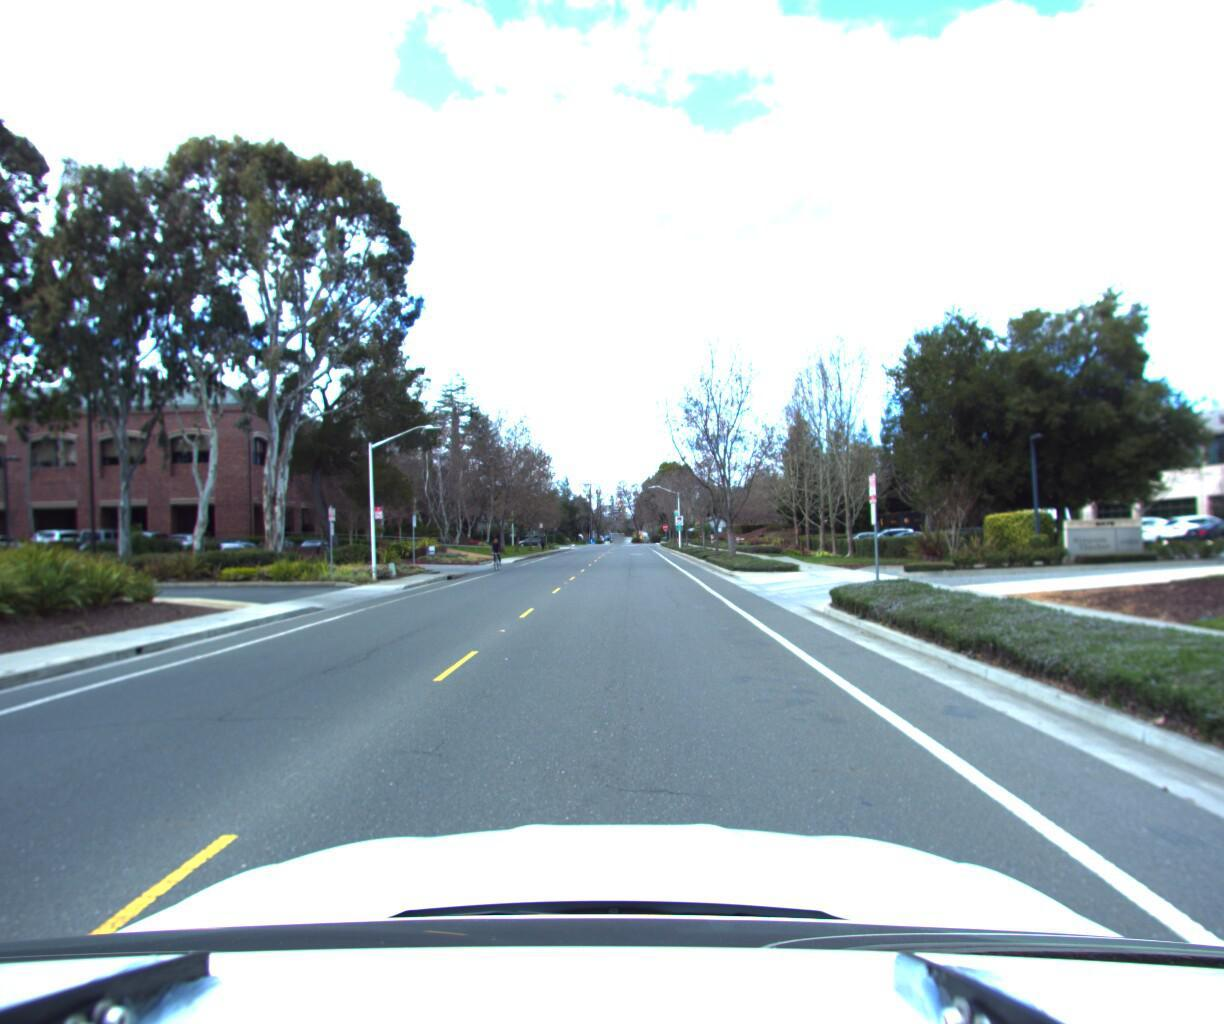bicycle: (486, 533, 510, 573)
